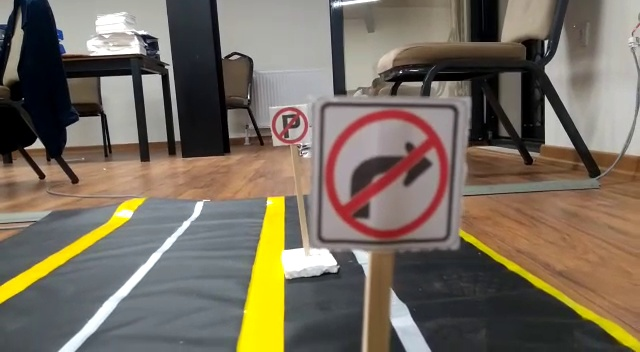park_yapilmaz: (268, 104, 309, 149)
saga_donulmez: (315, 98, 455, 244)
